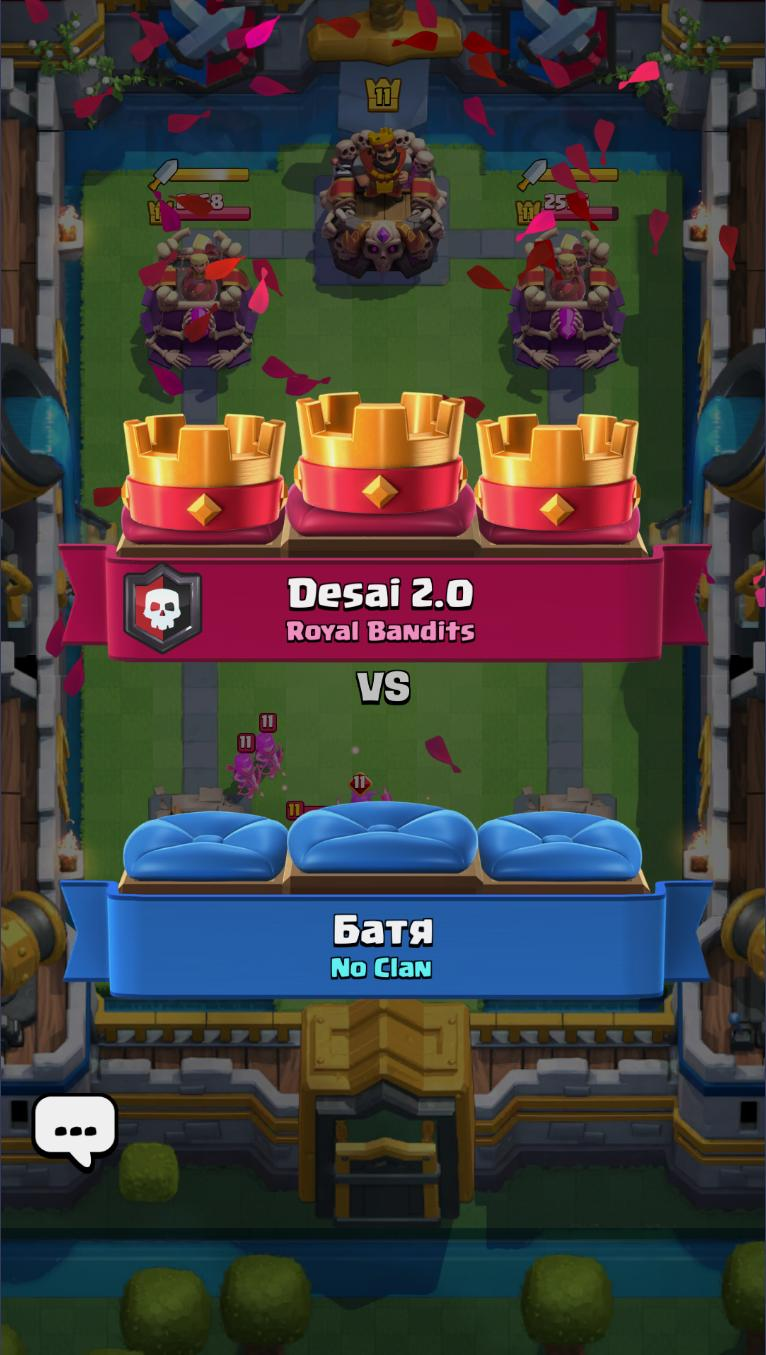Archer: (224, 731, 266, 799), (250, 707, 287, 783)
DaggerDuchess: (170, 226, 224, 296), (546, 233, 594, 301)
Daggers: (146, 153, 251, 190), (516, 156, 623, 190)
EnemyTower: (506, 221, 630, 374), (137, 224, 263, 373)
KingTower: (311, 123, 454, 280)
Lose_3-0: (59, 389, 714, 1004)
TowerPrincessHP: (519, 190, 624, 229), (146, 189, 253, 224)
